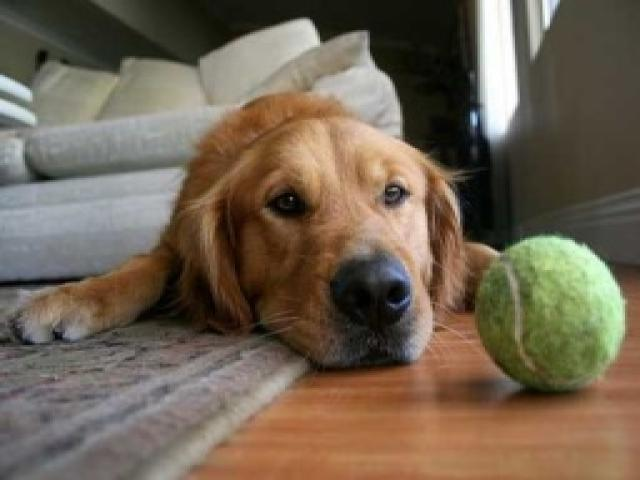tennis-ball: (477, 236, 625, 395)
